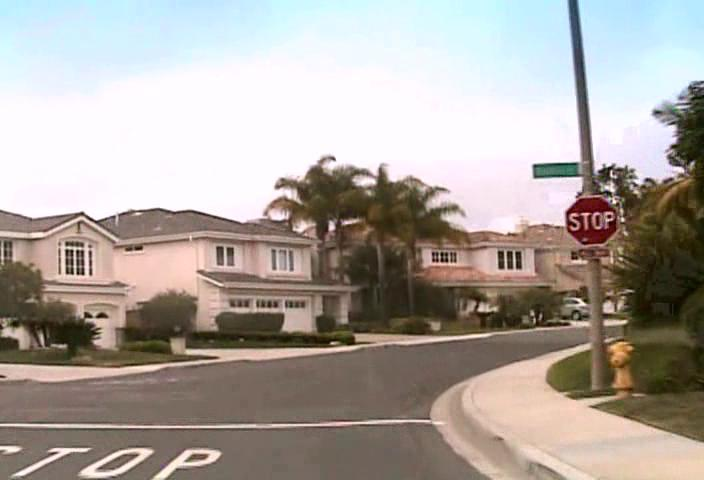stop: (564, 195, 618, 247)
